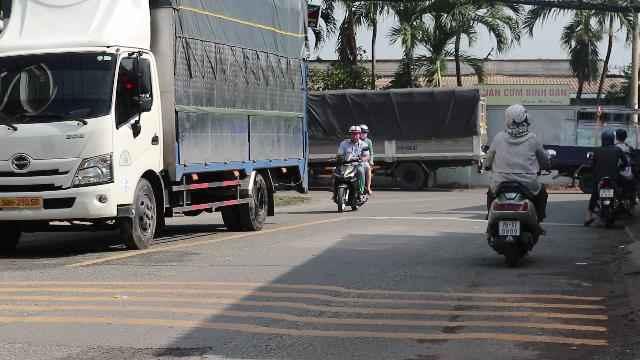helmet: (502, 103, 530, 133), (599, 128, 615, 144), (348, 124, 360, 139), (358, 124, 368, 139)
licenseplate: (499, 221, 519, 235), (600, 189, 612, 197)
motorcyclist: (478, 102, 552, 264), (584, 127, 626, 227), (328, 124, 374, 212)
